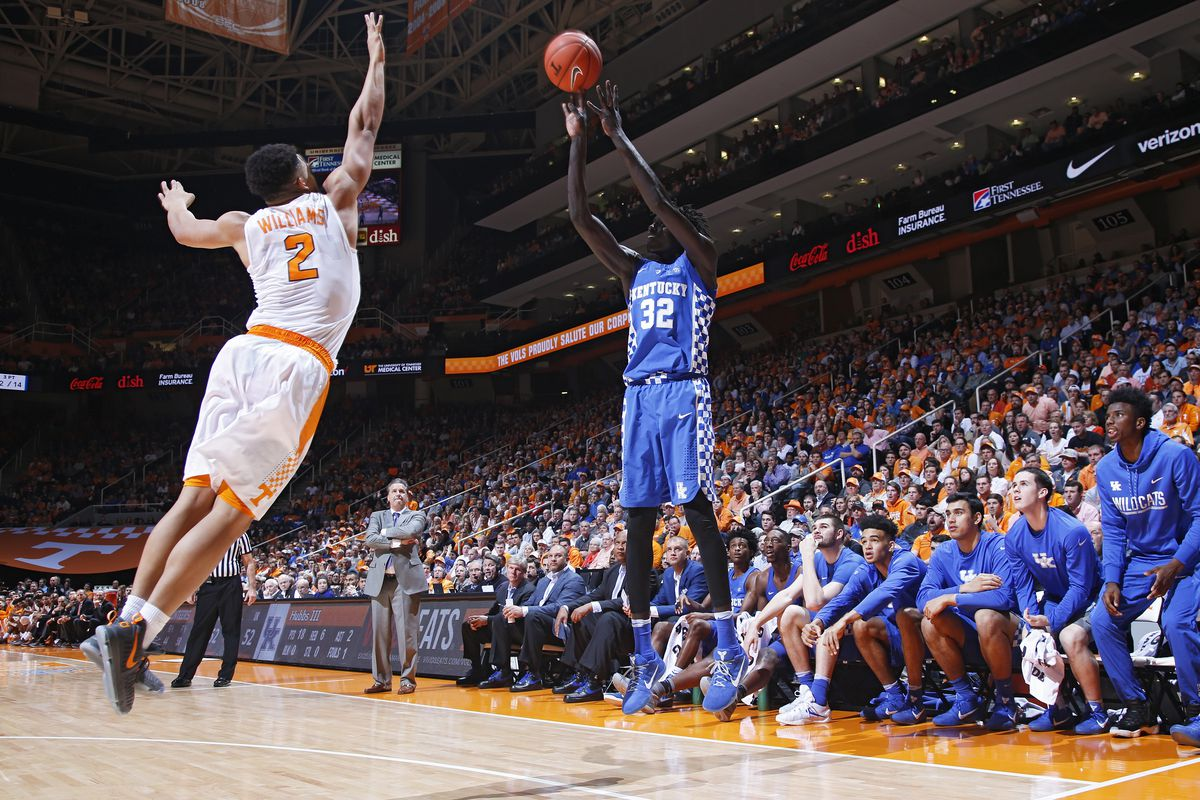basketball: (542, 26, 610, 100)
basketball player: (143, 138, 373, 714), (585, 106, 737, 723)
